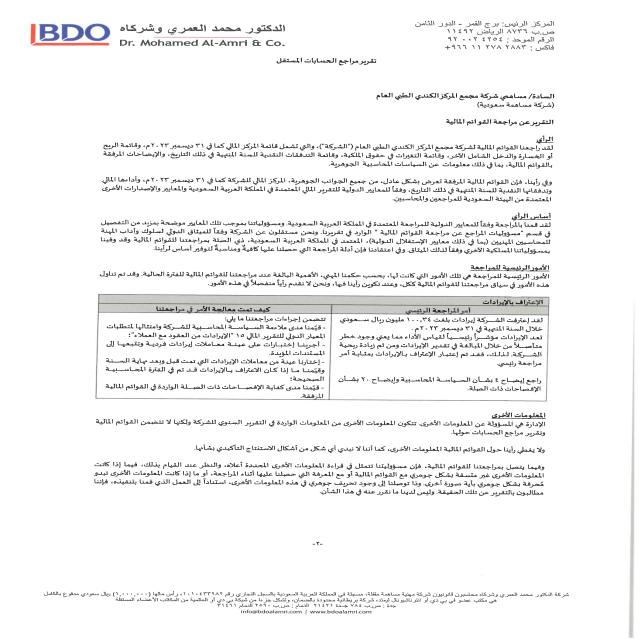auditor_report: (262, 53, 385, 75)
